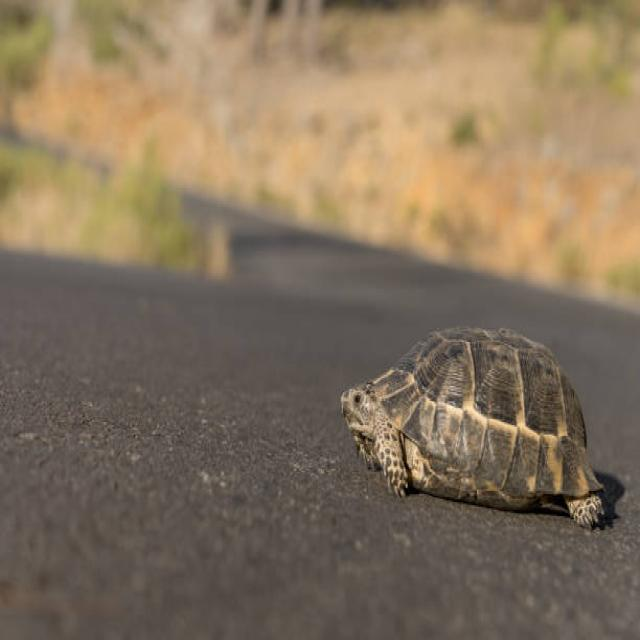tortoise: (338, 302, 630, 548), (372, 427, 414, 502), (564, 487, 610, 533), (335, 379, 370, 432)
